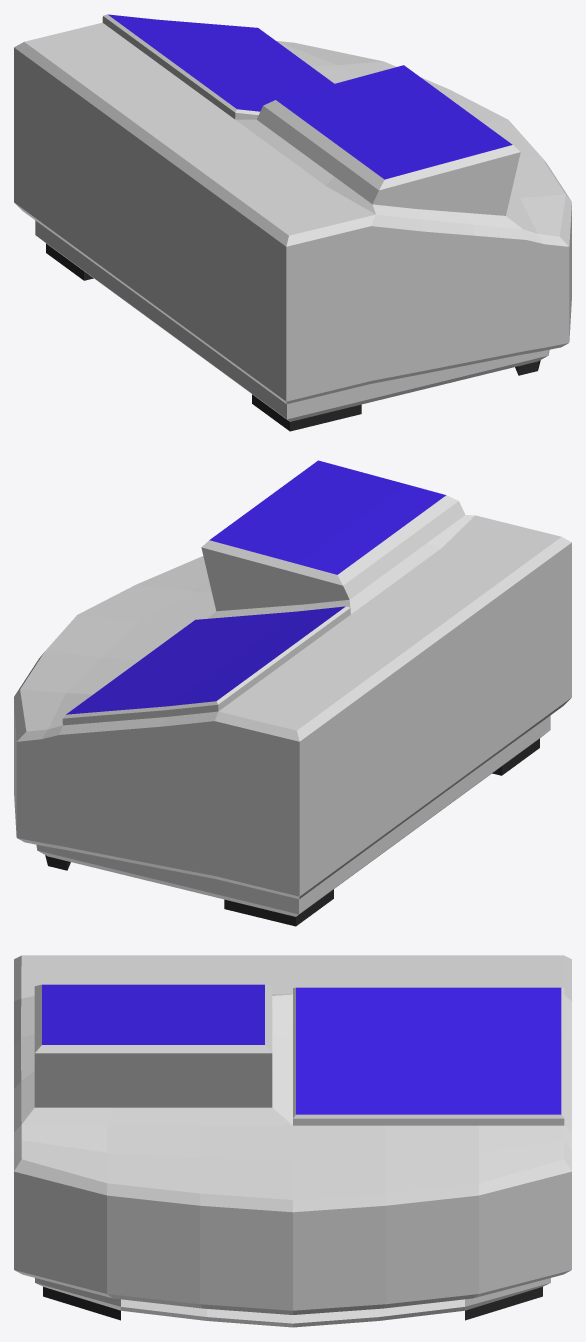
The model's file is spectrophotowhatever.fbx.
3 renders of one model, top to bottom at view 1: azimuth 30°, elevation 25°; view 2: azimuth 150°, elevation 25°; view 3: azimuth 270°, elevation 25°, orthographic. The views are drawn at different scales.
Parts seen in each view (by area): view 1: Cube; view 2: Cube; view 3: Cube.
Boxes of the visible parts, x1,y1,x2,y2 form: Cube: (14, 14, 571, 431); Cube: (14, 460, 571, 926); Cube: (14, 955, 571, 1327).
Size of the model in its own units: 386 by 236 by 500.
